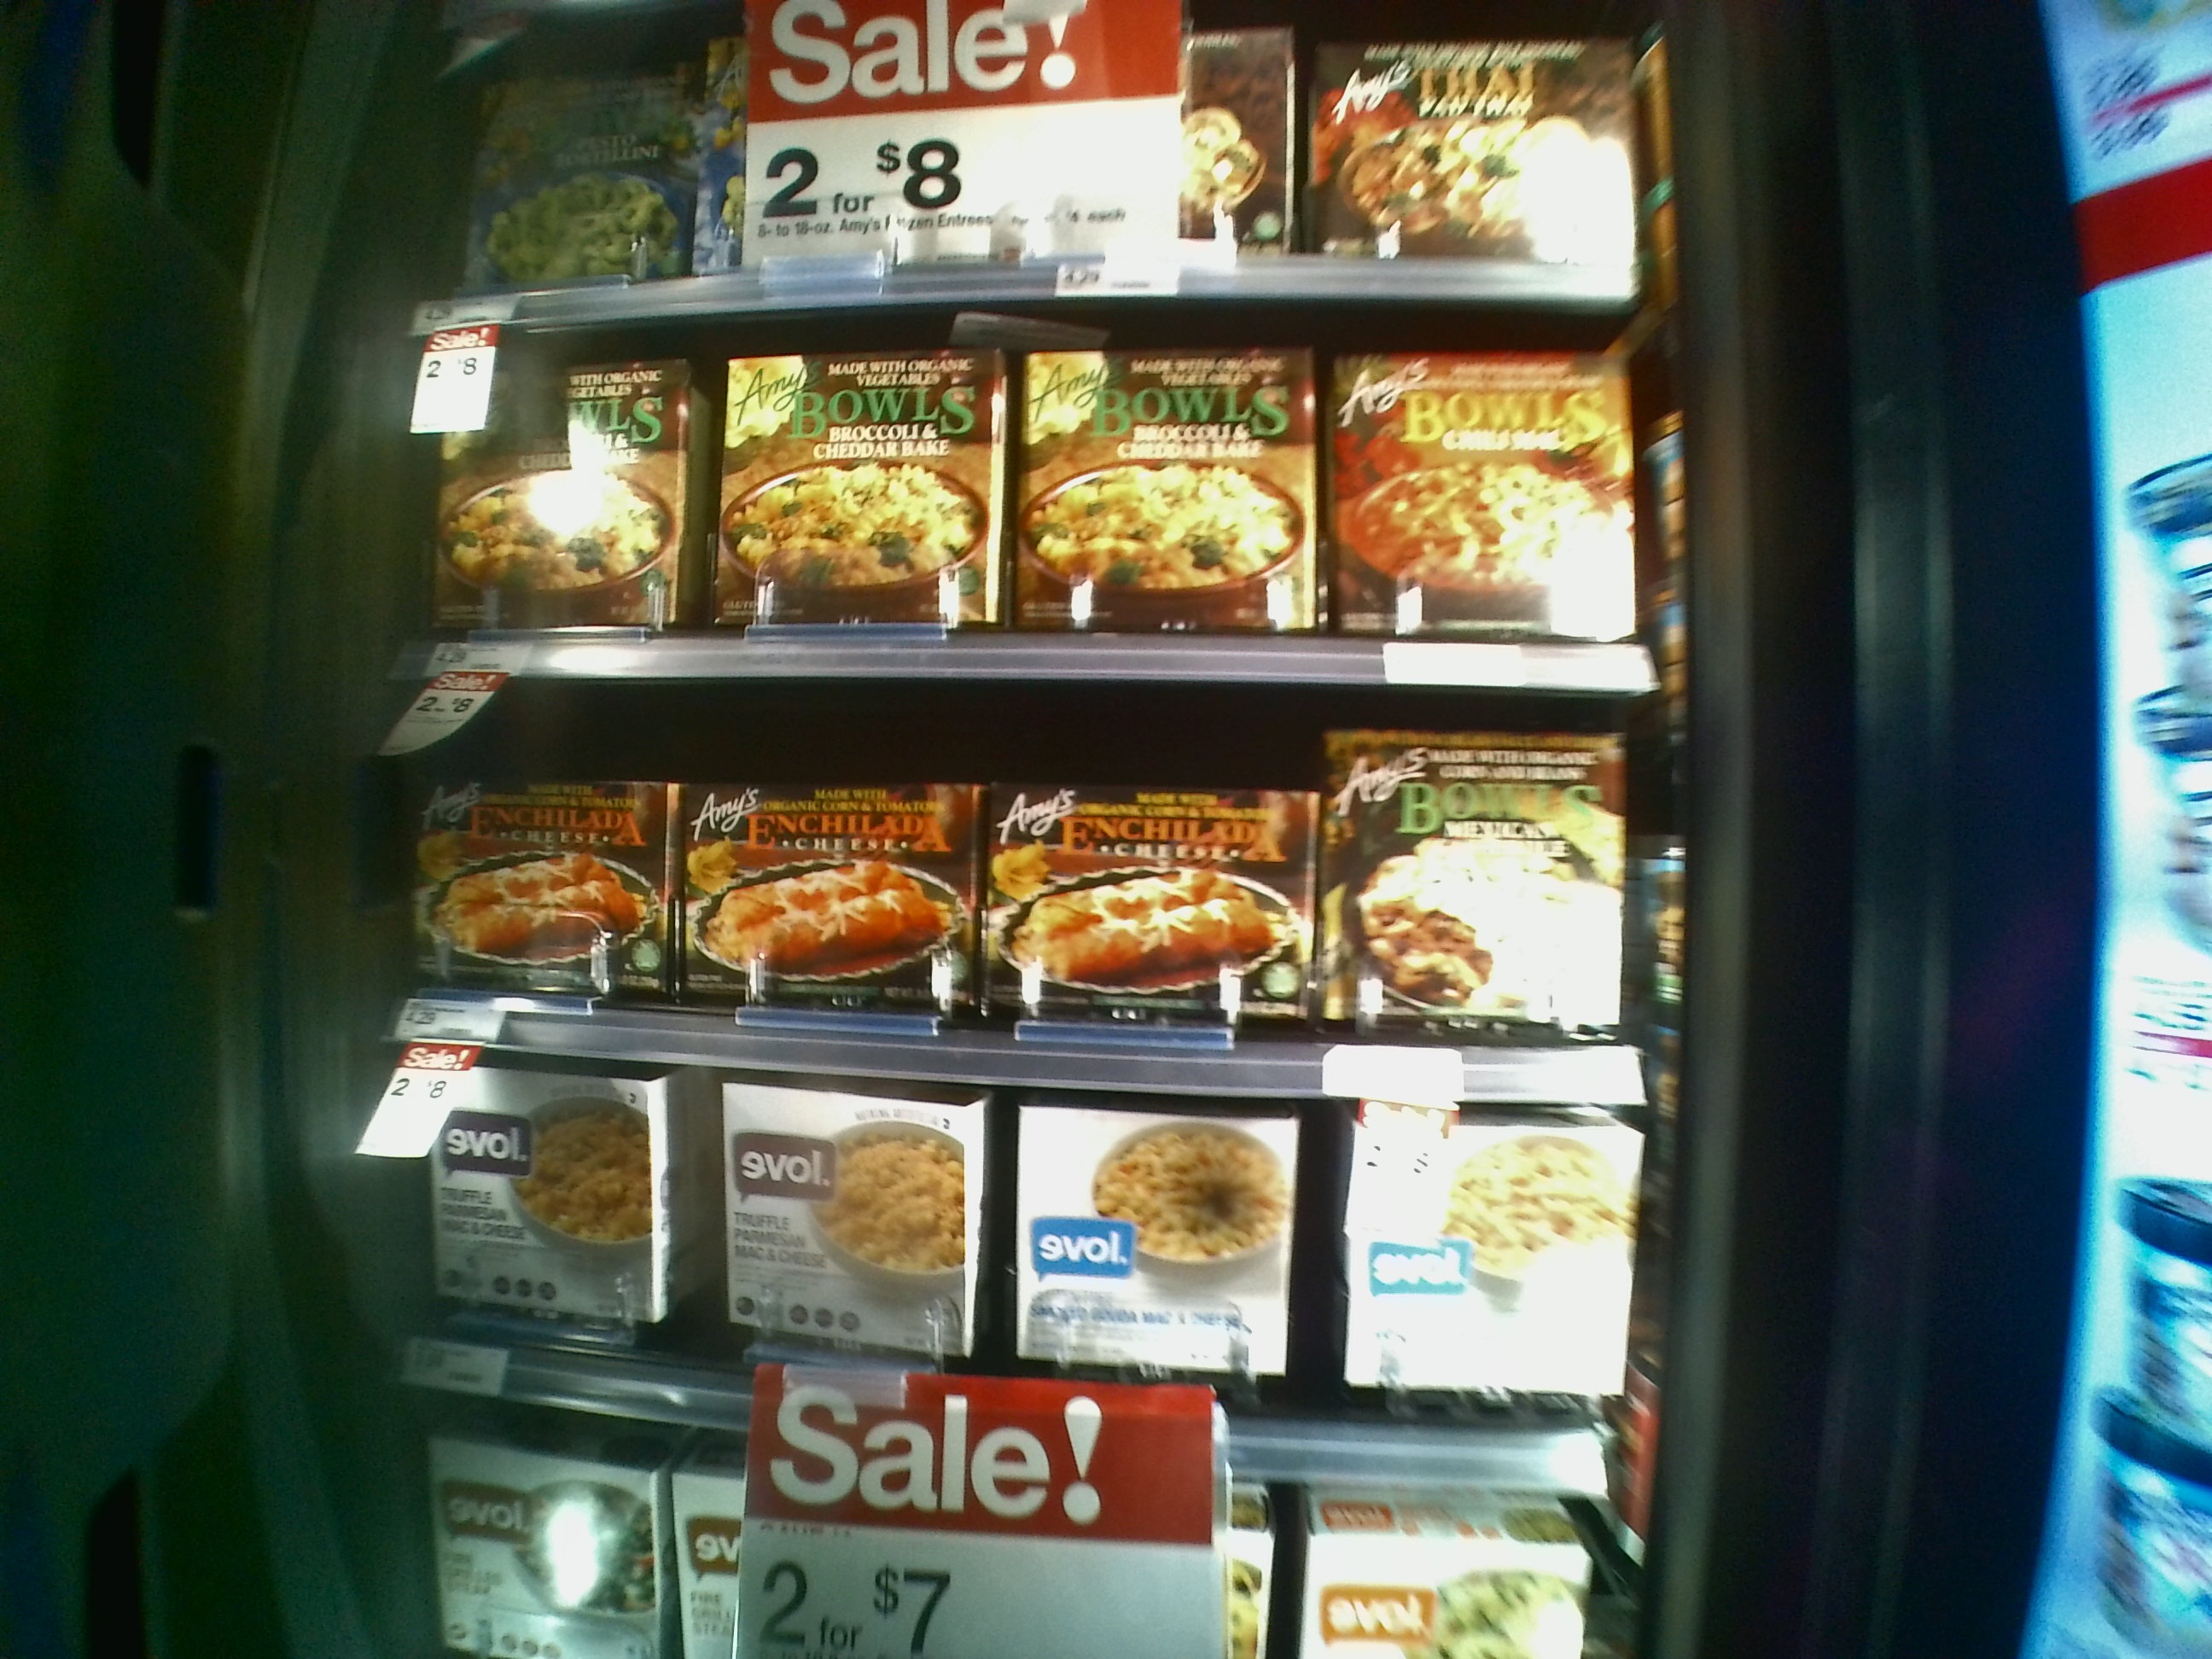shelf: (415, 680, 1672, 1079), (423, 1063, 1635, 1476), (425, 324, 1667, 685)
